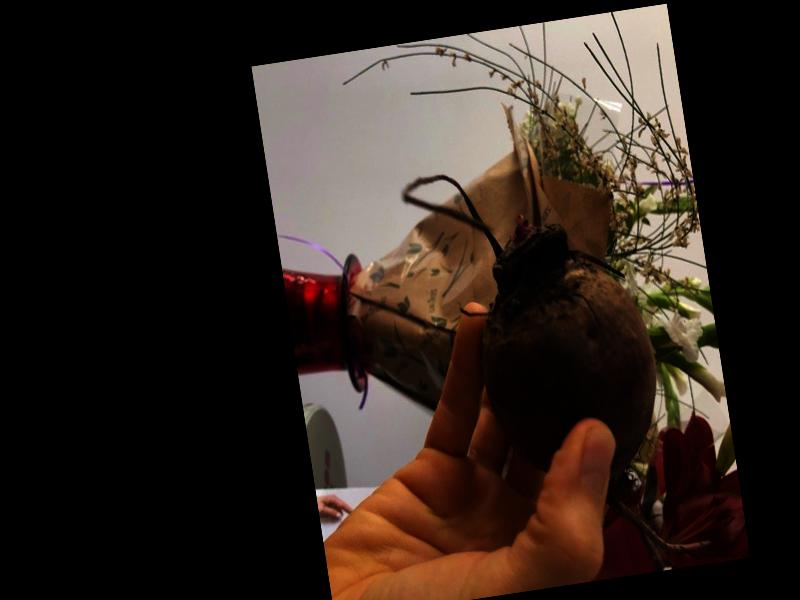Beet: (400, 142, 710, 583)
